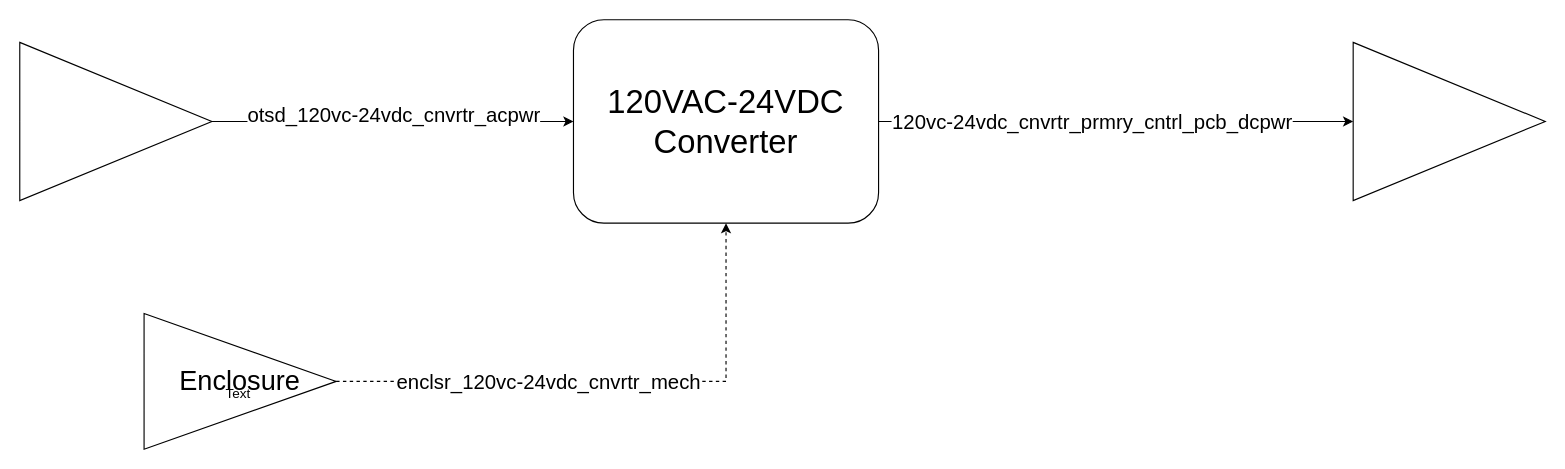
This 1565x469 diagram has some shape labels left out. Here are the shapes that lost their labels. From the top down, the centre of each, then its label:
At (x=115, y=121): "120VAC RMS".
At (x=1448, y=121): "24VDC".
